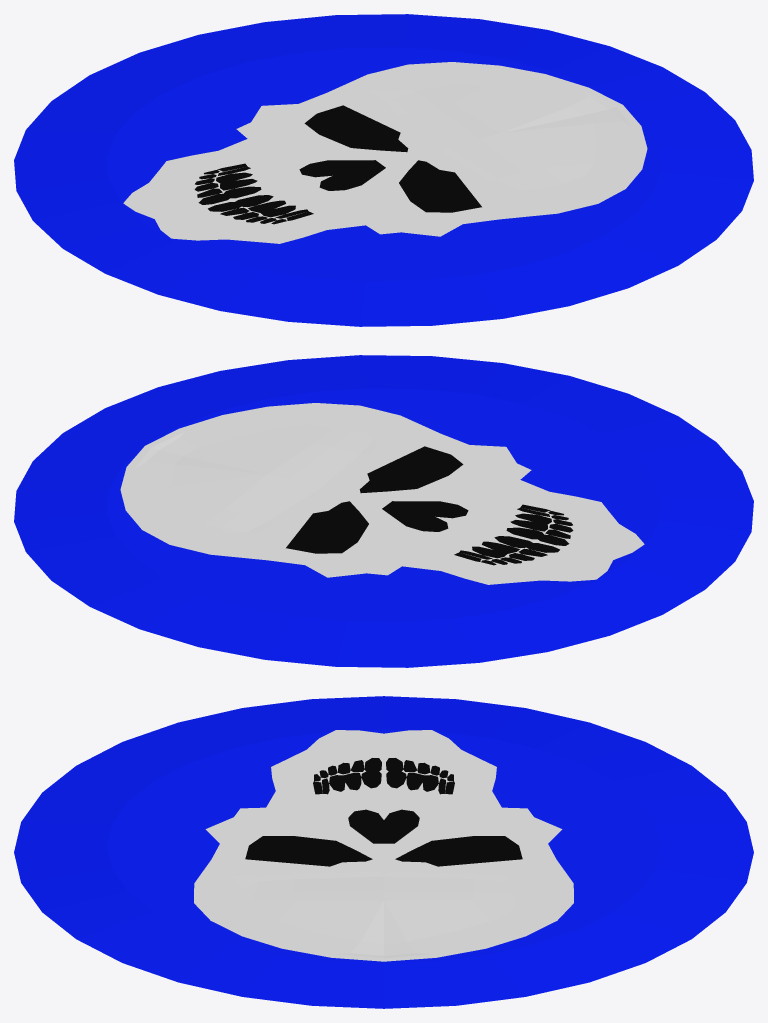
File: skull.fbx
3 renders of one model, top to bottom at view 1: azimuth 30°, elevation 25°; view 2: azimuth 150°, elevation 25°; view 3: azimuth 270°, elevation 25°, orthographic.
Visible parts, largest first — view 1: skull; view 2: skull; view 3: skull.
Boxes of the visible parts, bbox=[...] form: skull: bbox=[14, 14, 753, 326]; skull: bbox=[14, 355, 753, 667]; skull: bbox=[14, 696, 753, 1008].
Size of the model in its own units: 120 by 1.55 by 120.
